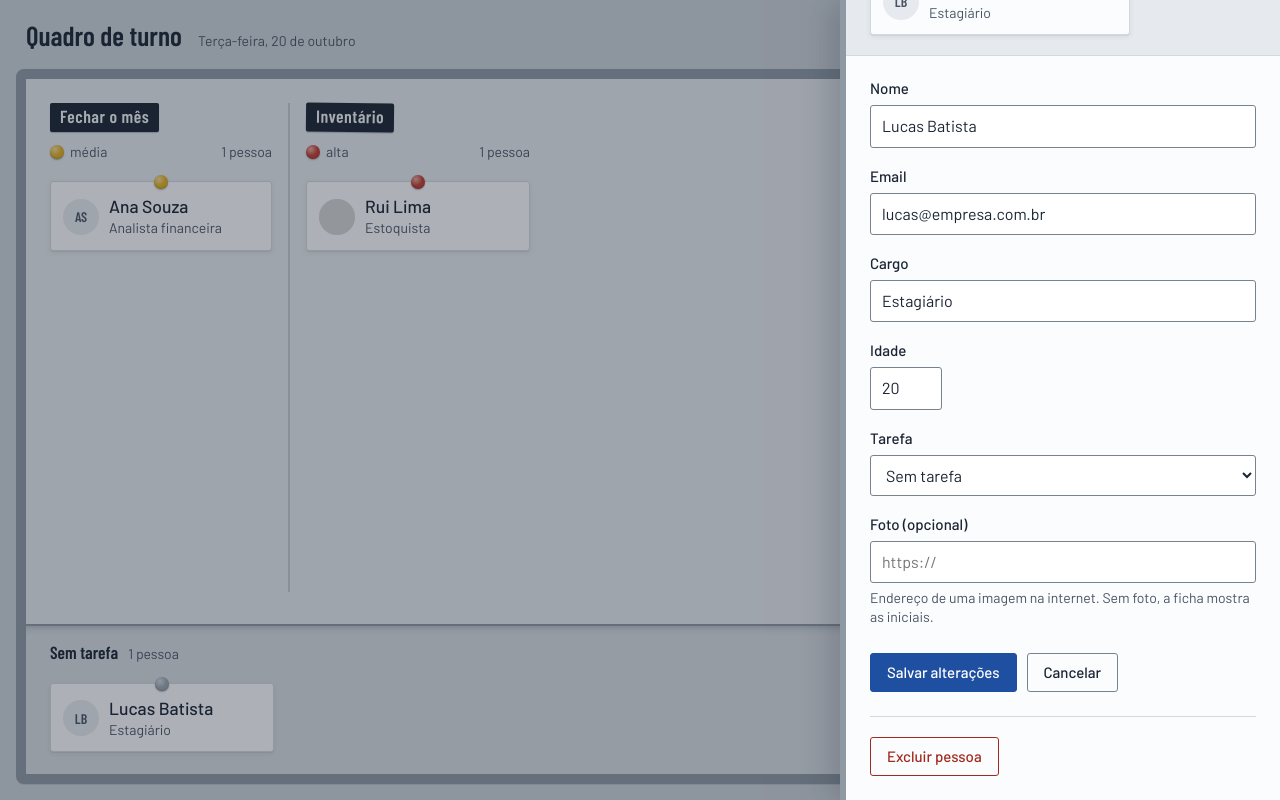
Test: excluir › pessoa: pergunta antes, com o foco em "Manter", e exclui de vez
(page scrolled)
Click the button "Excluir pessoa".
click(934, 756)  # box left=870, top=737, right=999, bottom=776
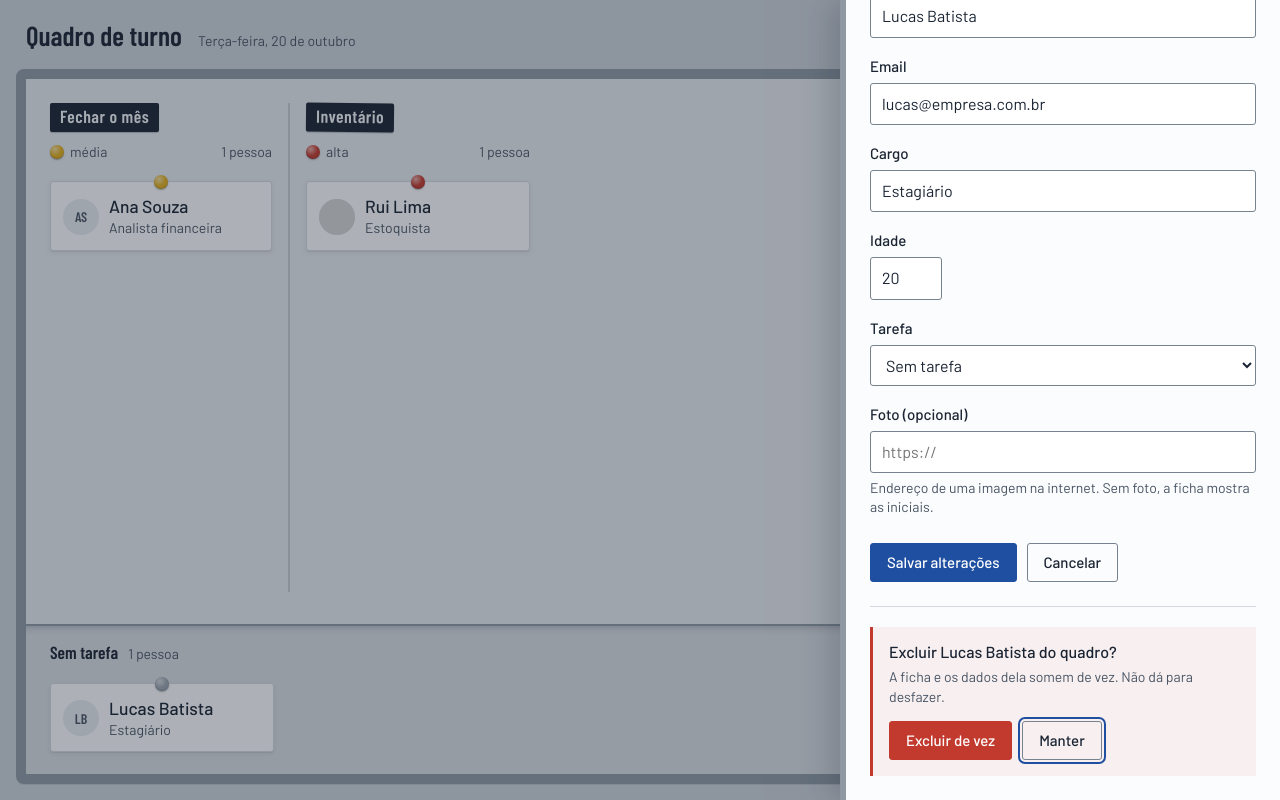
Expected: the text "Excluir Lucas Batista do quadro?" is shown, left=889, top=642, right=1117, bottom=661
Click the button "Excluir de vez".
click(951, 740)  # box left=889, top=720, right=1012, bottom=760
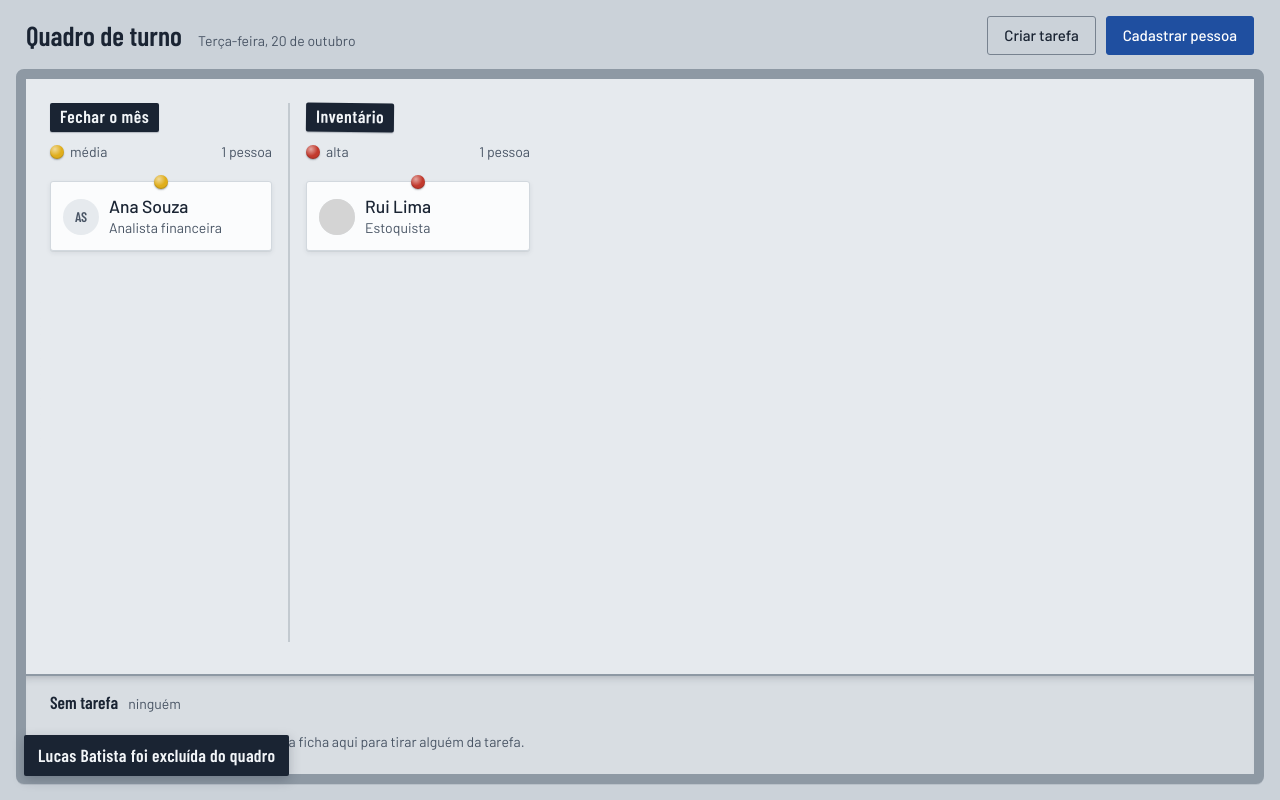
Expected: the dialog is gone
Expected: the text "Lucas Batista foi excluída do quadro" is shown, left=24, top=734, right=290, bottom=776
